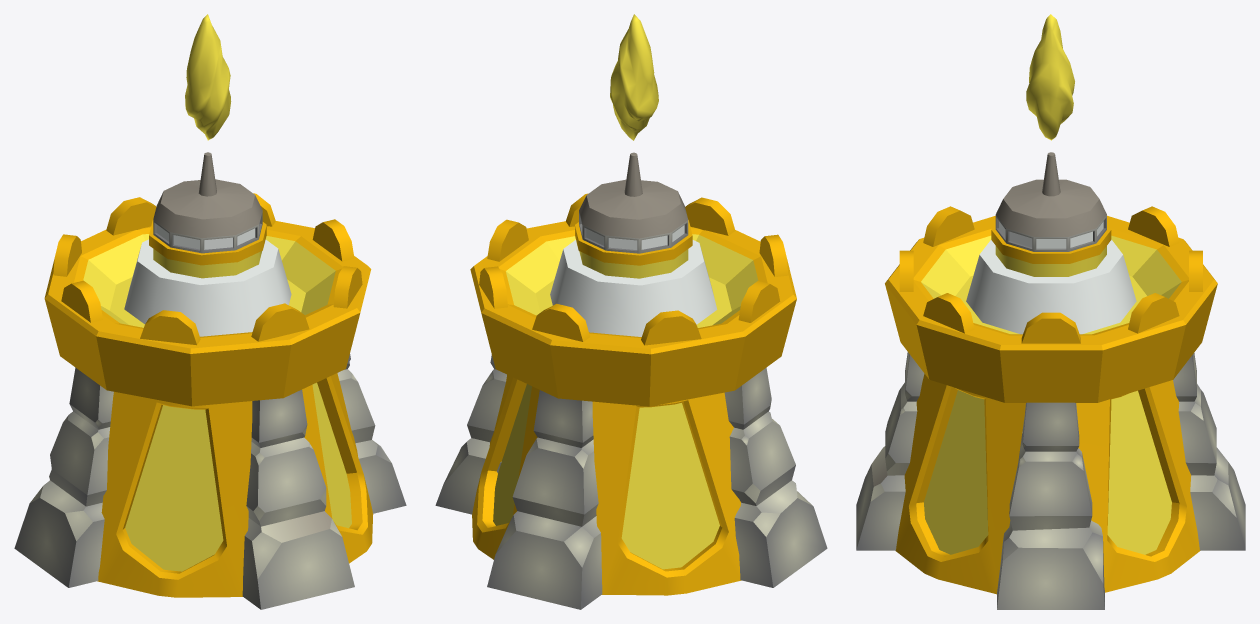
The model's file is island4.firestone3.fbx.
3 renders of one model, left to right at view 1: azimuth 30°, elevation 25°; view 2: azimuth 150°, elevation 25°; view 3: azimuth 270°, elevation 25°, orthographic.
Parts seen in each view (by area): view 1: islnd4-firestone3, island4-firestone3.01; view 2: islnd4-firestone3, island4-firestone3.01; view 3: islnd4-firestone3, island4-firestone3.01.
Part boxes in pixels (x1,y1,x2,y2): islnd4-firestone3: (14, 152, 406, 609); island4-firestone3.01: (185, 14, 231, 140); islnd4-firestone3: (435, 152, 827, 609); island4-firestone3.01: (610, 14, 658, 140); islnd4-firestone3: (856, 152, 1245, 609); island4-firestone3.01: (1026, 14, 1074, 140).
Bounding box in the file's own units: 2.41 × 3.5 × 2.41.
Materials: 1 (1 with a texture image).
